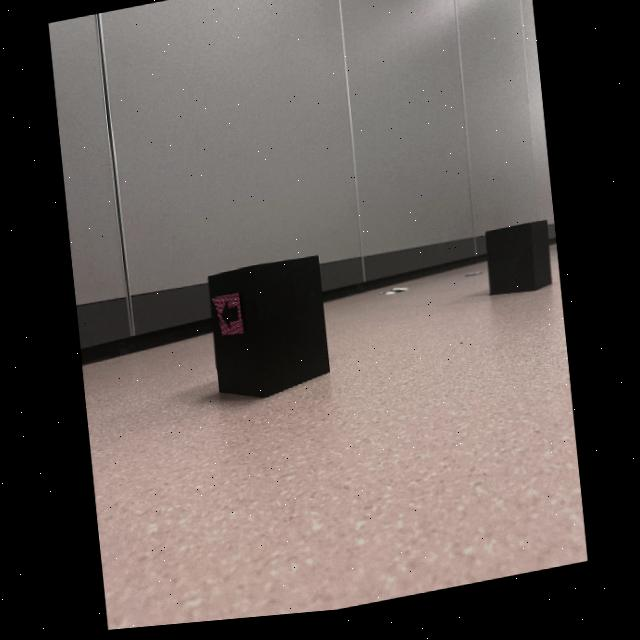LEFT: (222, 305, 238, 333)
